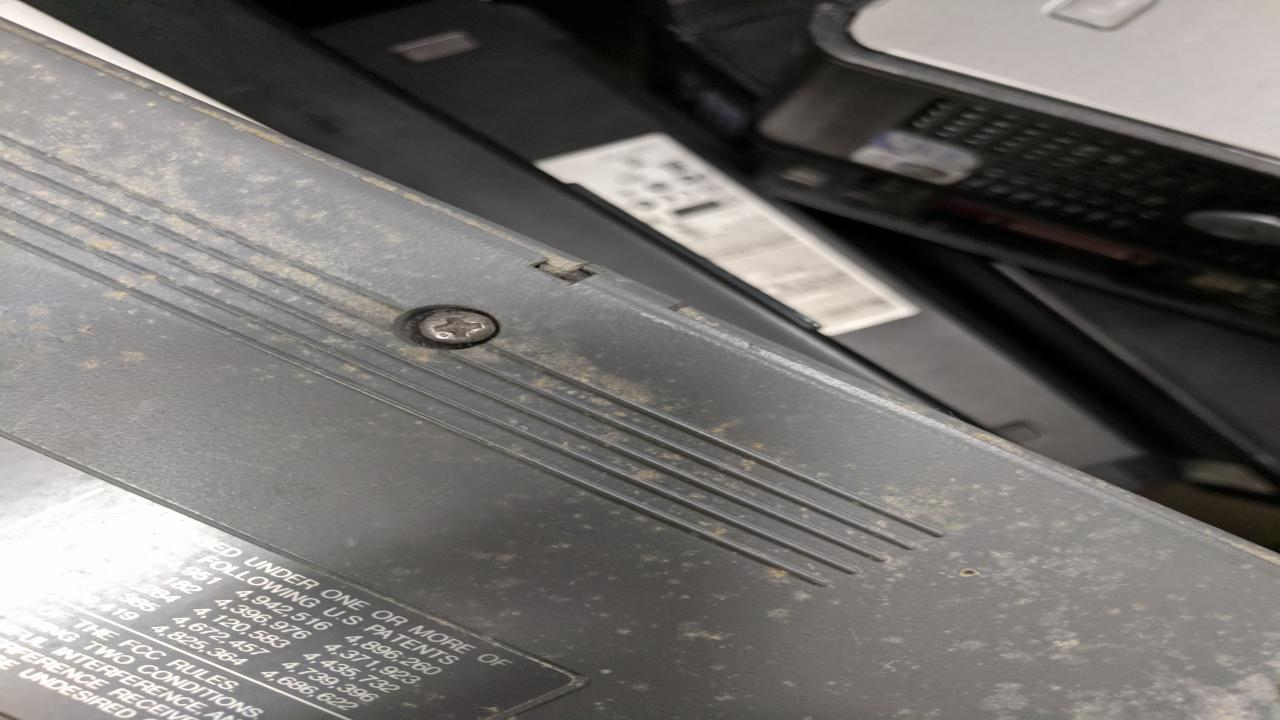CRS: (418, 307, 502, 348)
